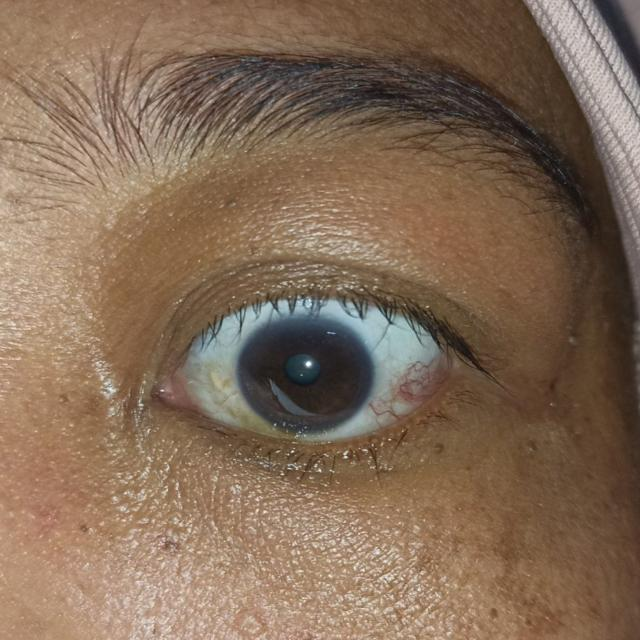Cataract: (238, 311, 372, 431)
